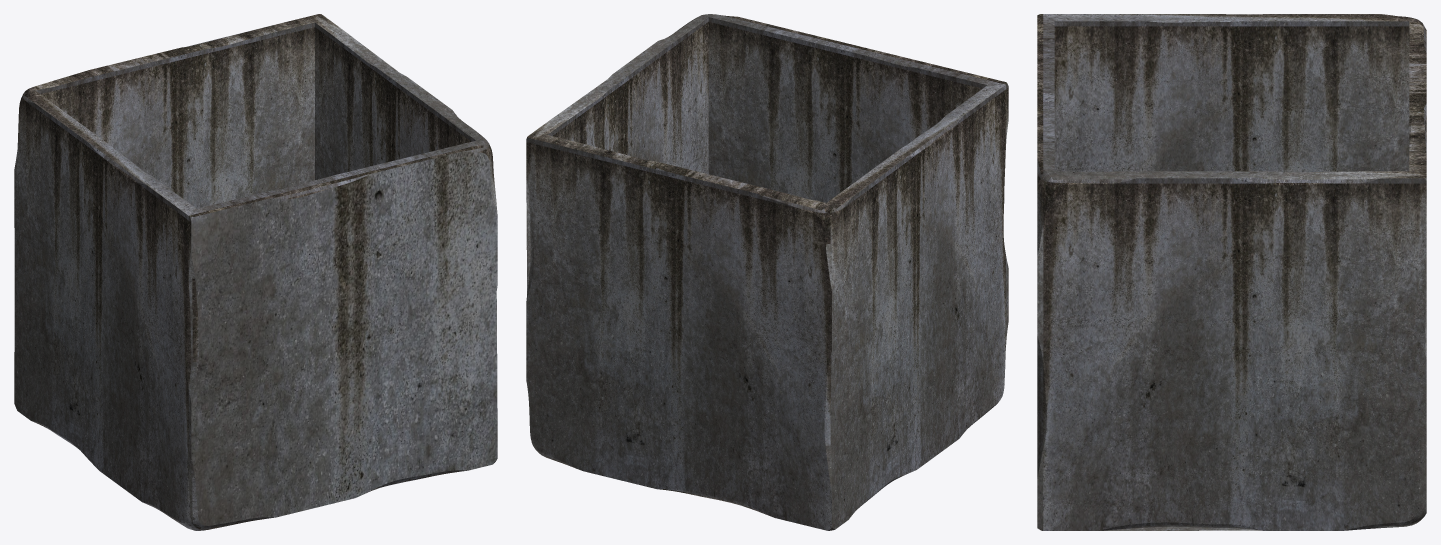
File: Bet_korobka-1.fbx
3 views of the same model, side by side, from view 1: azimuth 30°, elevation 25°; view 2: azimuth 150°, elevation 25°; view 3: azimuth 270°, elevation 25° (orthographic). The views are drawn at different scales.
Parts seen in each view (by area): view 1: Cube.001_dmg.001; view 2: Cube.001_dmg.001; view 3: Cube.001_dmg.001.
Boxes of the visible parts, x1,y1,x2,y2 form: Cube.001_dmg.001: [14, 14, 497, 530]; Cube.001_dmg.001: [526, 14, 1008, 530]; Cube.001_dmg.001: [1037, 14, 1426, 530].
Size of the model in its own units: 139 by 139 by 139.
